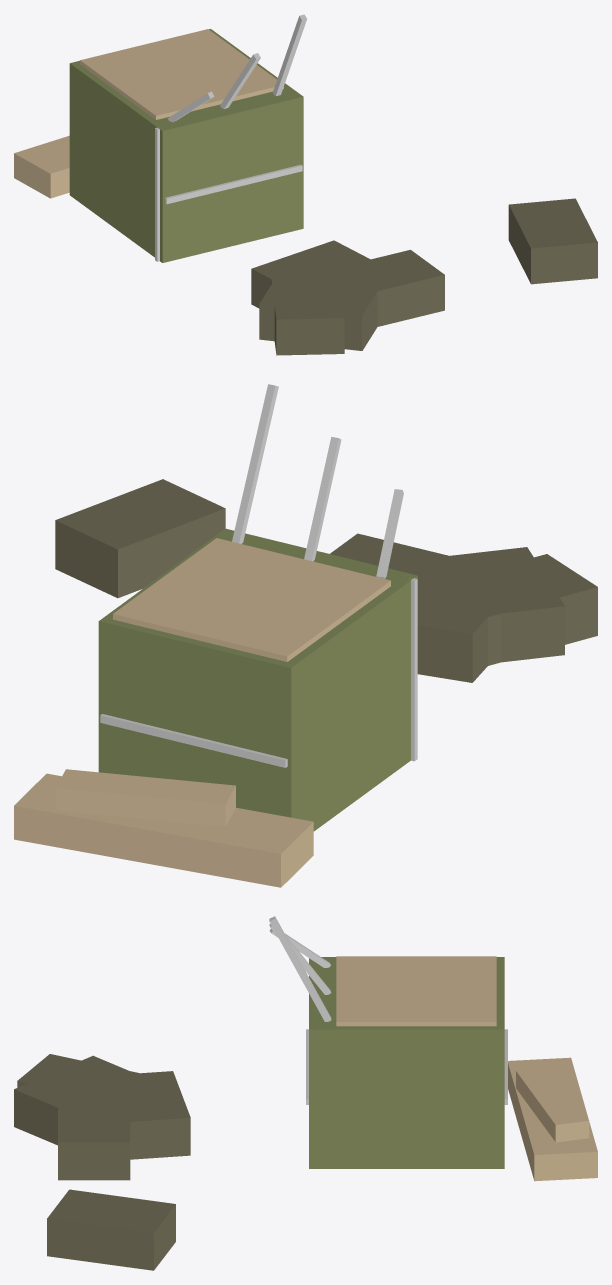
Rendered from SM_HescoCorto1_v3_RemateSacos_e2_MuyDanado_LOD0.fbx.
3 renders of one model, top to bottom at view 1: azimuth 30°, elevation 25°; view 2: azimuth 150°, elevation 25°; view 3: azimuth 270°, elevation 25°, orthographic. The views are drawn at different scales.
Visible parts, largest first — view 1: SM_hesco_piezas_v54_LOD0; view 2: SM_hesco_piezas_v54_LOD0; view 3: SM_hesco_piezas_v54_LOD0.
Part boxes in pixels (bbox=[...]): SM_hesco_piezas_v54_LOD0: bbox=[14, 14, 597, 355]; SM_hesco_piezas_v54_LOD0: bbox=[14, 384, 597, 887]; SM_hesco_piezas_v54_LOD0: bbox=[14, 916, 597, 1270].
Bounding box in the file's own units: 2.76 × 1.67 × 3.64.
